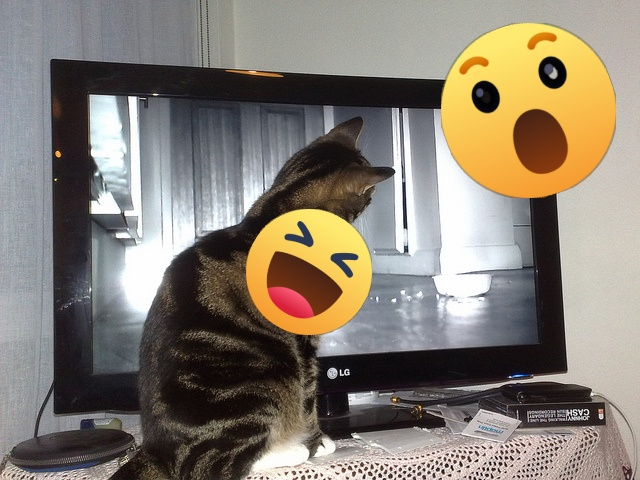haha: (246, 209, 372, 335)
wow: (441, 23, 616, 198)
